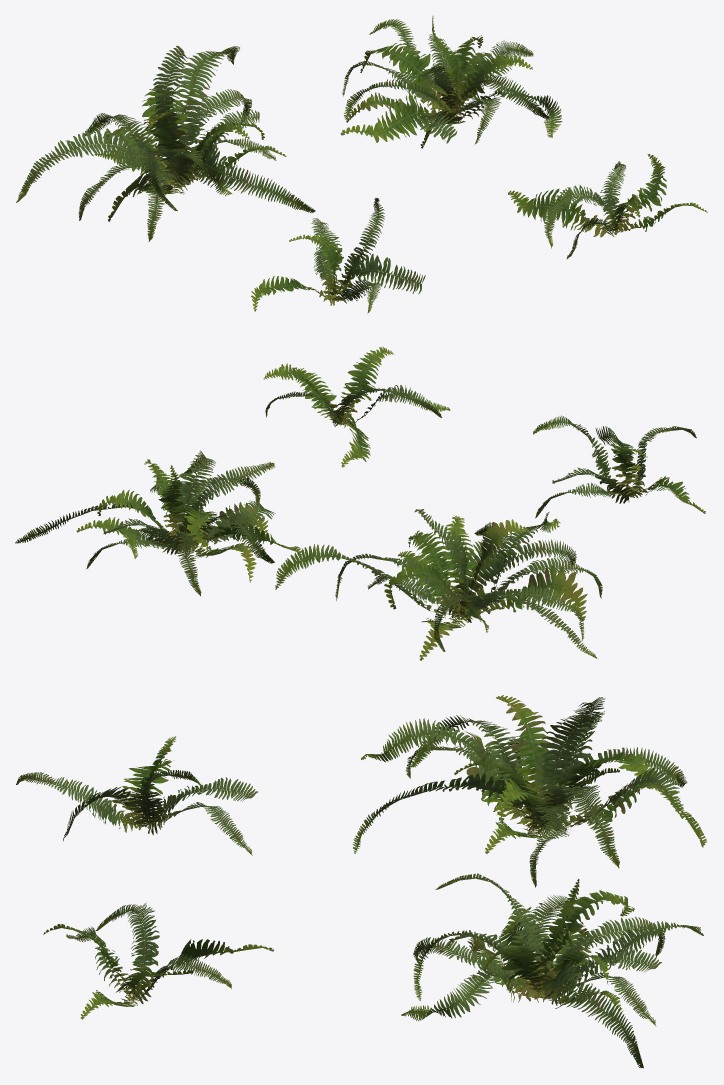
Rendered from fern_02.light.glb.
3 views of the same model, one above another, from view 1: azimuth 30°, elevation 25°; view 2: azimuth 150°, elevation 25°; view 3: azimuth 270°, elevation 25° (orthographic). The views are drawn at different scales.
Visible parts, largest first — view 1: fern_02_b, fern_02_c, fern_02_a, fern_02_d; view 2: fern_02_b, fern_02_c, fern_02_d, fern_02_a; view 3: fern_02_b, fern_02_c, fern_02_a, fern_02_d.
Part boxes in pixels (<box>): fern_02_b: <box>16,45,315,241</box>; fern_02_c: <box>340,16,562,148</box>; fern_02_a: <box>251,198,425,313</box>; fern_02_d: <box>508,154,707,258</box>; fern_02_b: <box>275,509,602,660</box>; fern_02_c: <box>15,450,302,596</box>; fern_02_d: <box>263,346,450,467</box>; fern_02_a: <box>533,415,705,518</box>; fern_02_b: <box>352,695,706,887</box>; fern_02_c: <box>401,873,703,1068</box>; fern_02_a: <box>16,736,258,855</box>; fern_02_d: <box>43,902,273,1019</box>.
Bounding box in the file's own units: 2 × 0.4337 × 1.75.
1 material, 1 textured.
